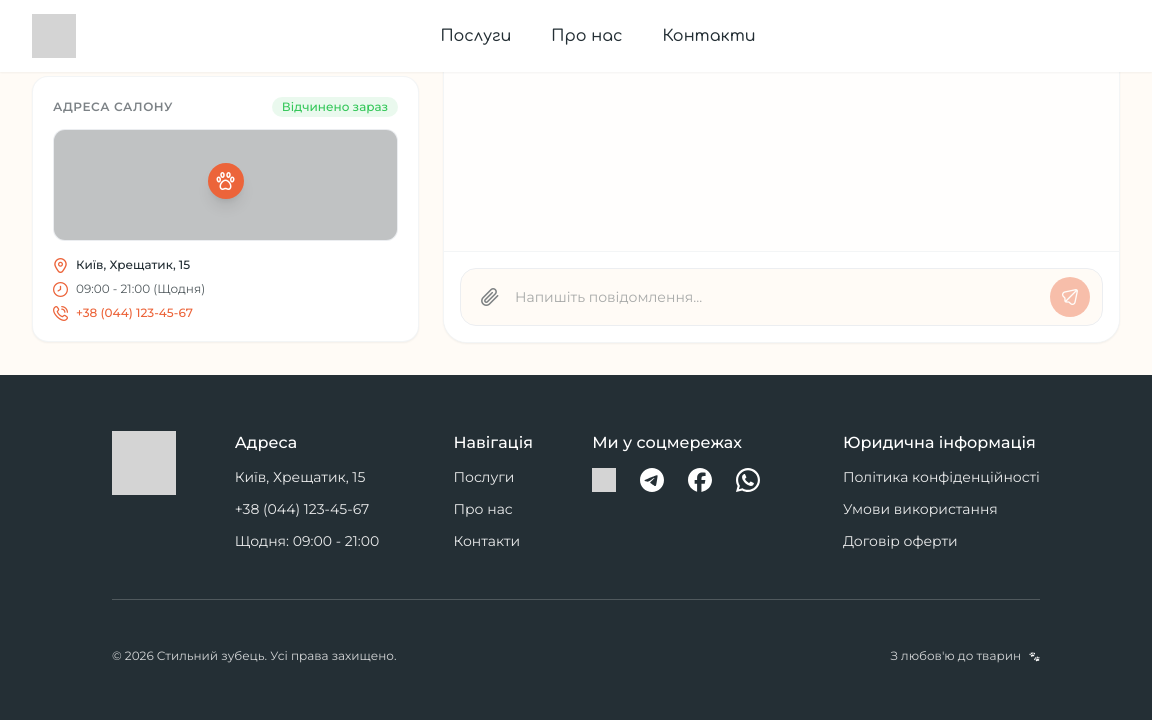
it: SupportChatPage › sends user message via Supabase and refreshes ticket list
(page scrolled)
Type "Дякую, чекаємо!" into the field with placeholder "Напишіть повідомлення...". click: (778, 297)
box: [515,287,1042,307]
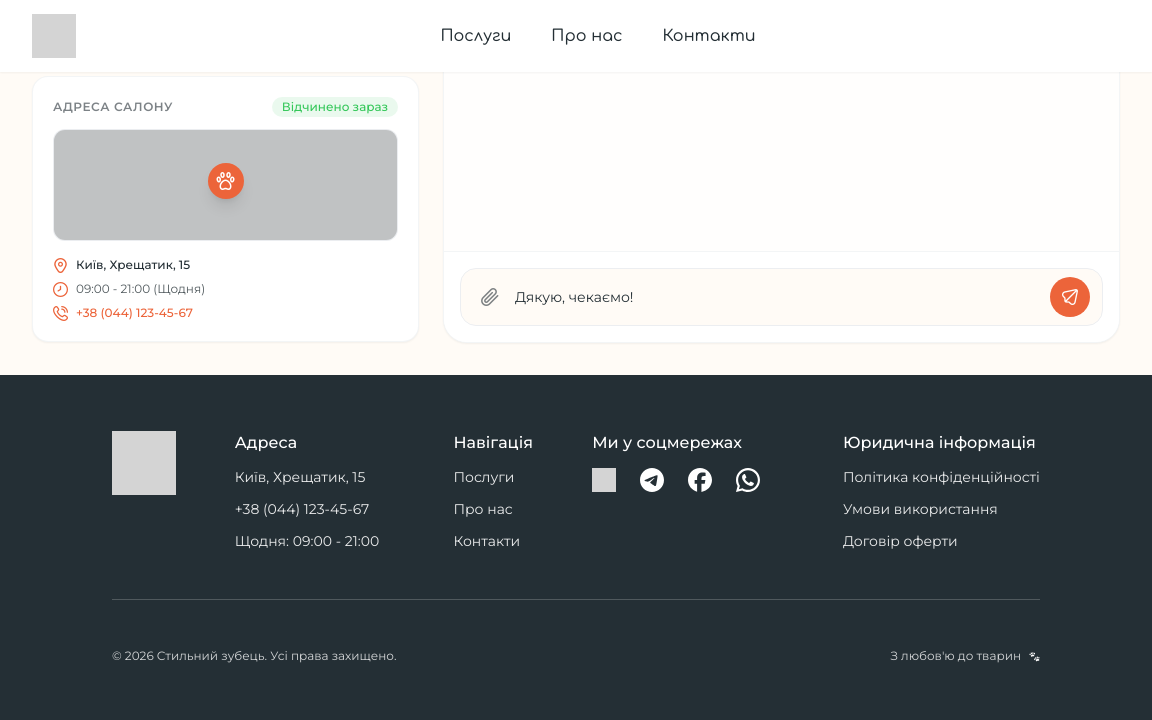
Click the button named "Надіслати повідомлення". click: (1070, 297)
box: [1050,277,1090,317]
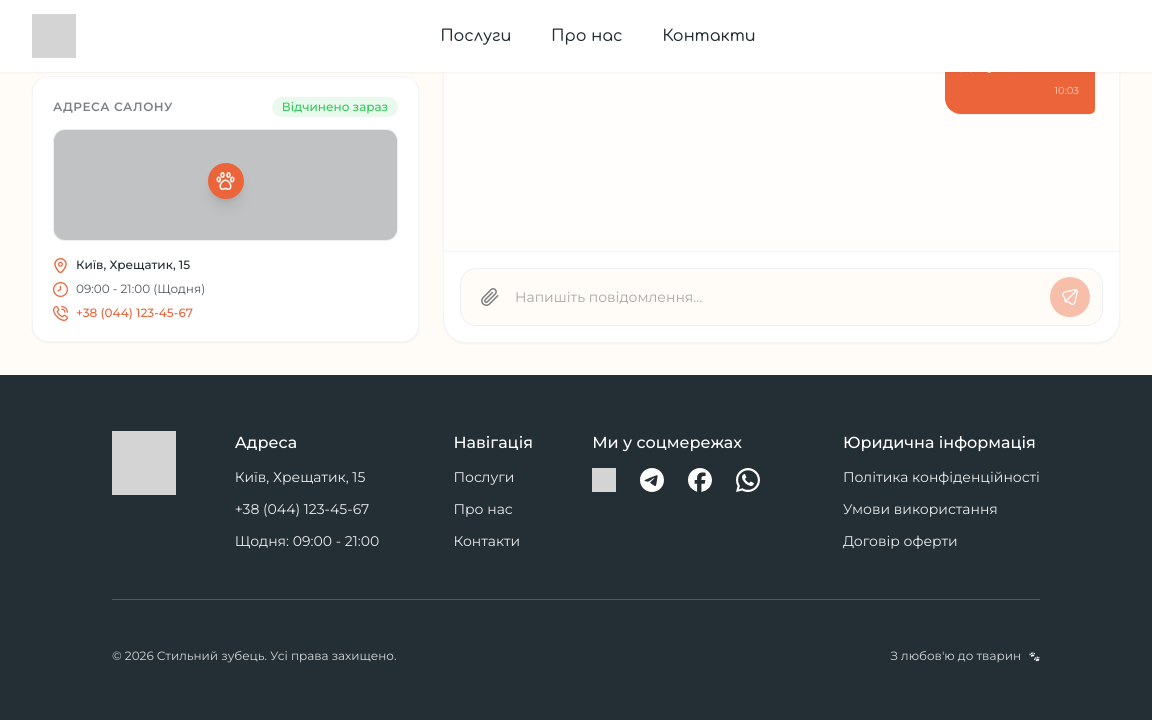
Result: the text "Дякую, чекаємо!" is shown at [960,54,1079,77]
